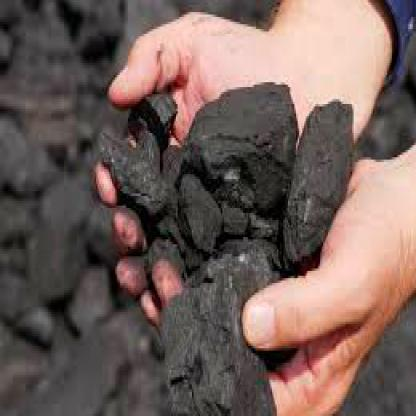Sedimentary_coal: (187, 75, 301, 235), (168, 258, 267, 414), (285, 87, 366, 259), (99, 89, 176, 213)
